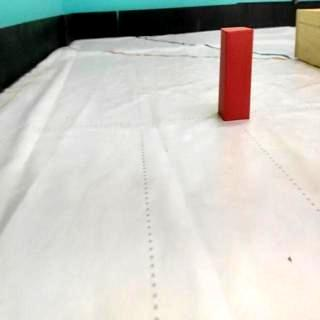redbox: (218, 26, 252, 124)
